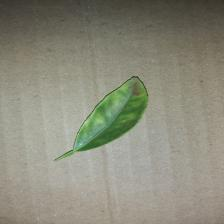greening: (51, 72, 153, 166)
